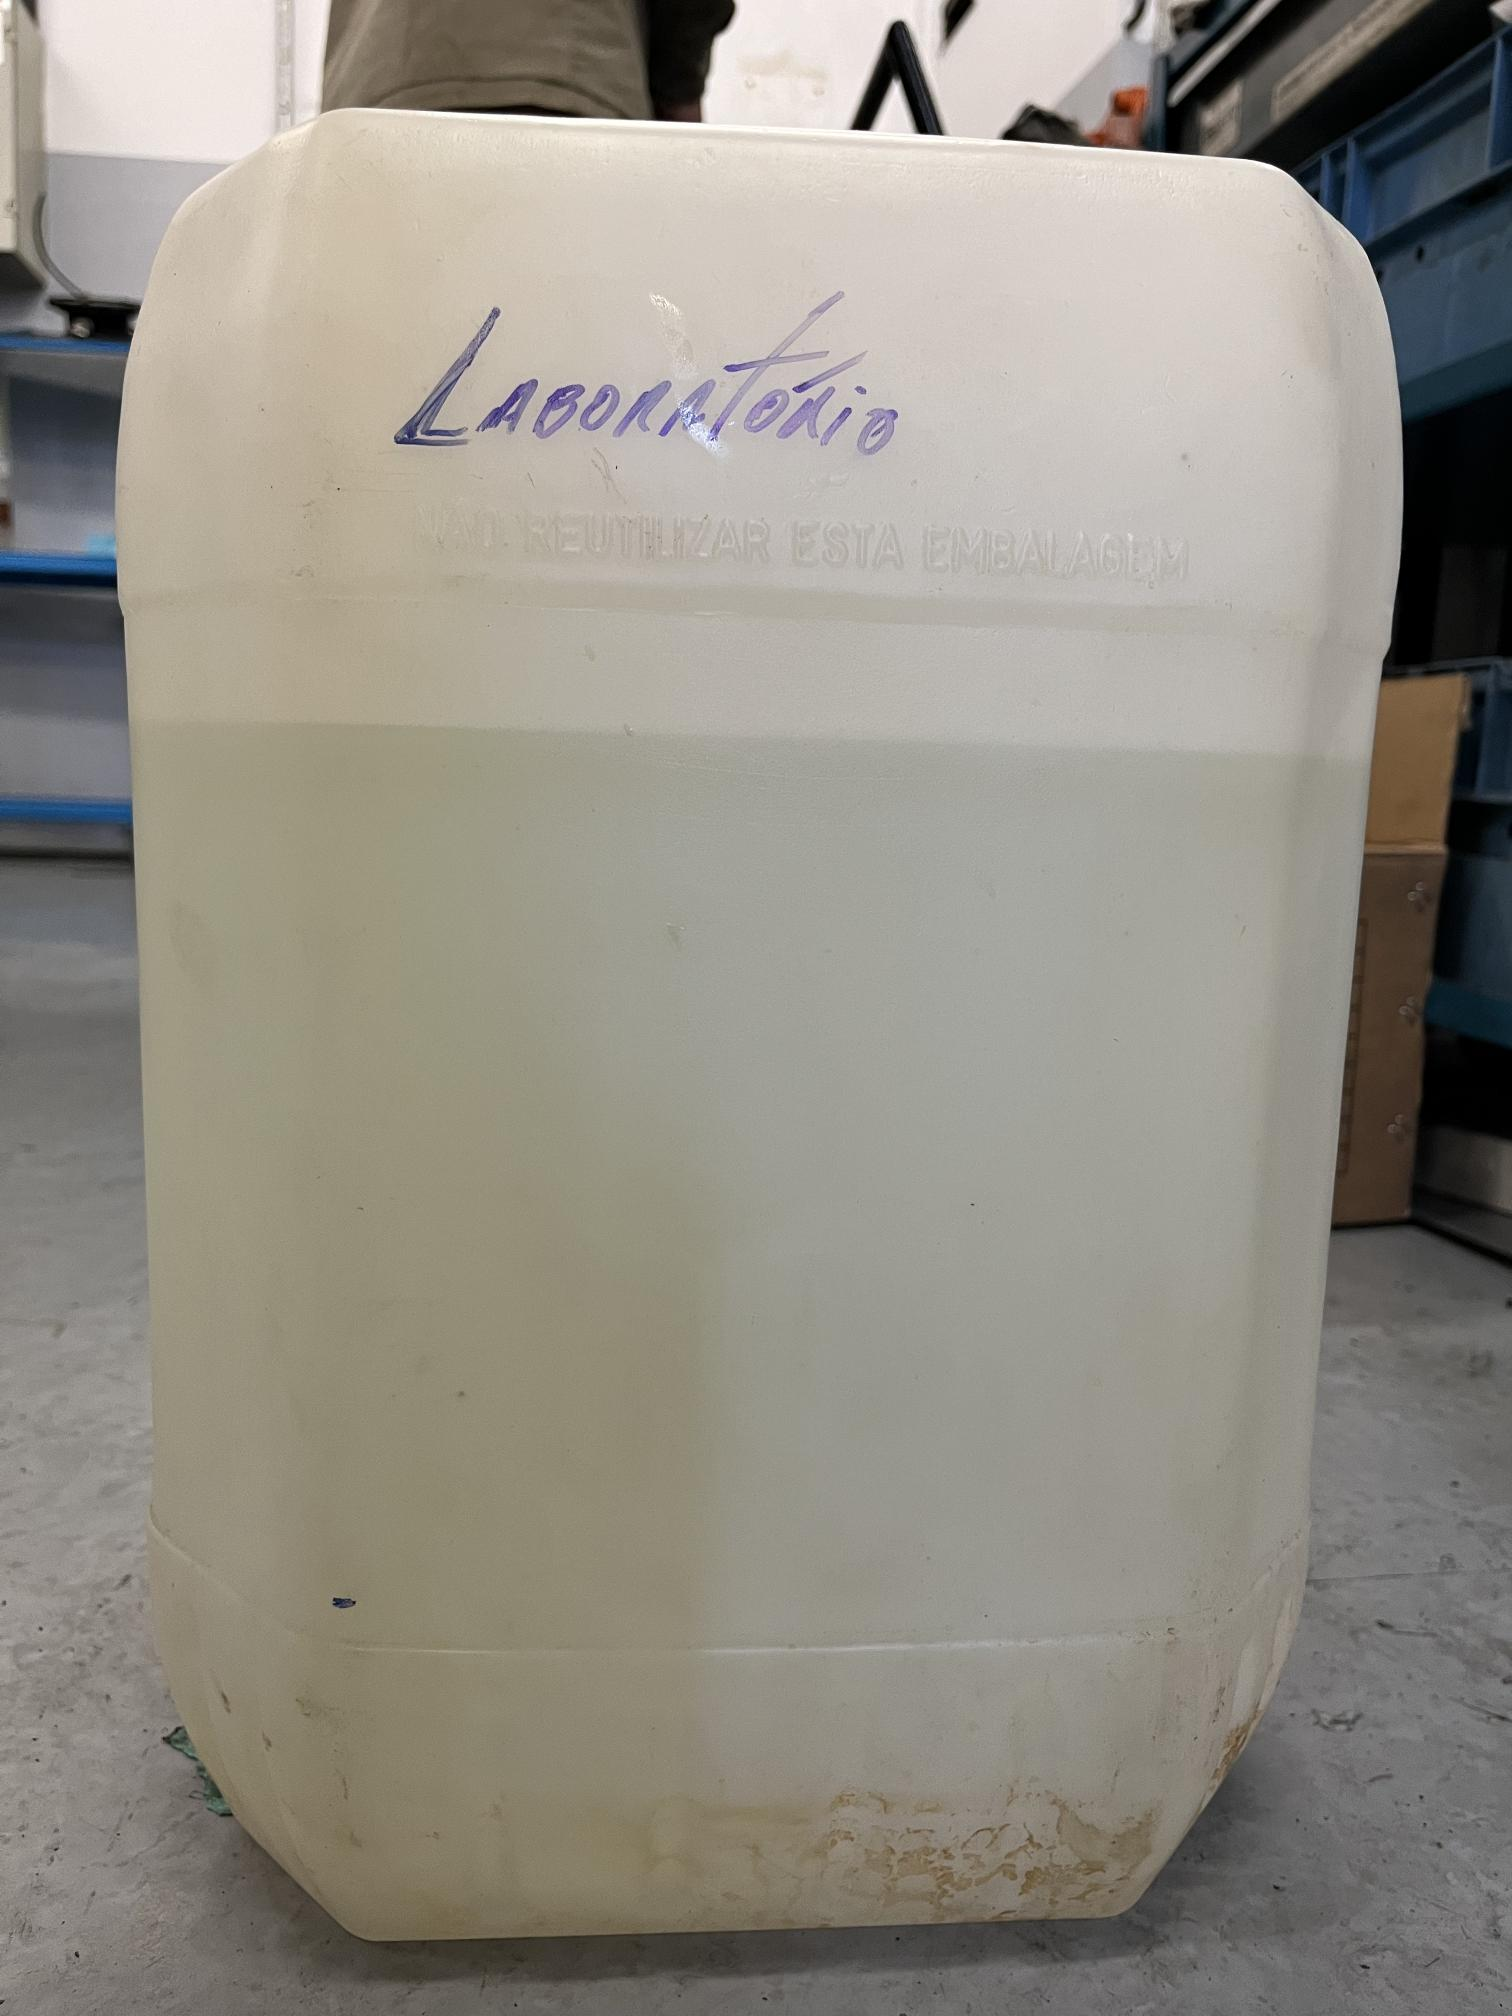Galao: (89, 85, 1417, 1963)
